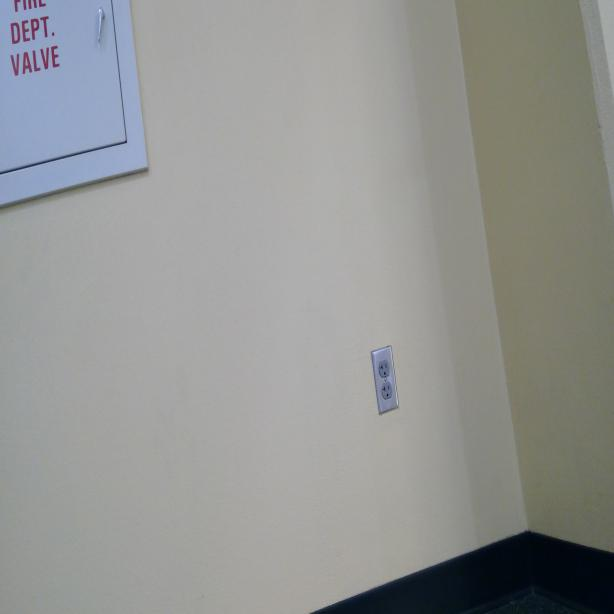typeb: (378, 359, 390, 379), (380, 380, 392, 400)
